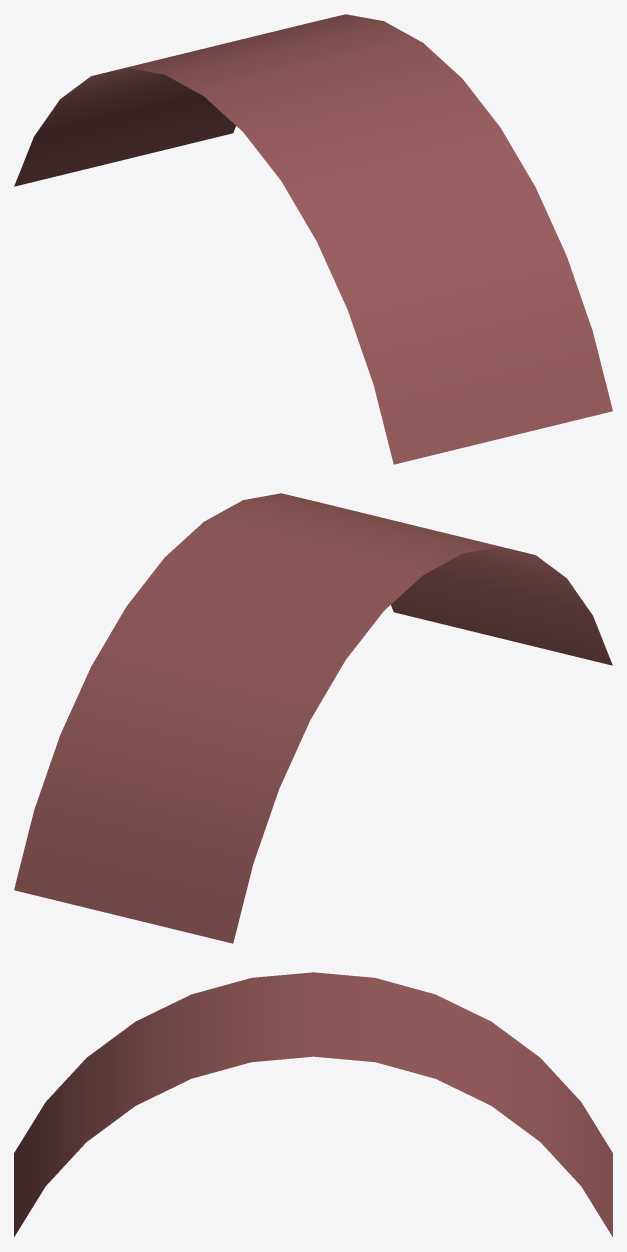
The model's file is SM_Ceiling_Arch2m.fbx.
The picture shows the model from 3 angles, top to bottom: view 1: azimuth 30°, elevation 25°; view 2: azimuth 150°, elevation 25°; view 3: azimuth 270°, elevation 25°; orthographic projection. The views are drawn at different scales.
Parts seen in each view (by area): view 1: SM_Ceiling_Arch2m; view 2: SM_Ceiling_Arch2m; view 3: SM_Ceiling_Arch2m.
Boxes of the visible parts, x1,y1,x2,y2 form: SM_Ceiling_Arch2m: [14, 14, 612, 464]; SM_Ceiling_Arch2m: [14, 493, 612, 943]; SM_Ceiling_Arch2m: [14, 972, 612, 1236].
Size of the model in its own units: 200 by 200 by 600.
